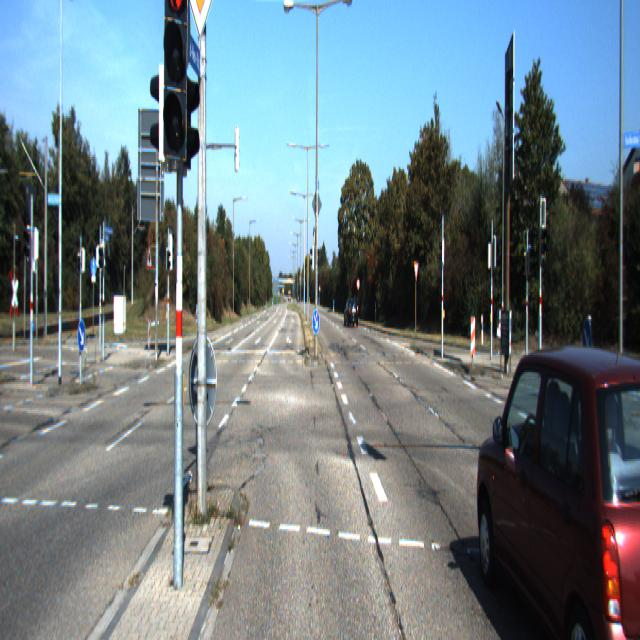Car: (472, 333, 640, 638), (344, 296, 359, 330)
